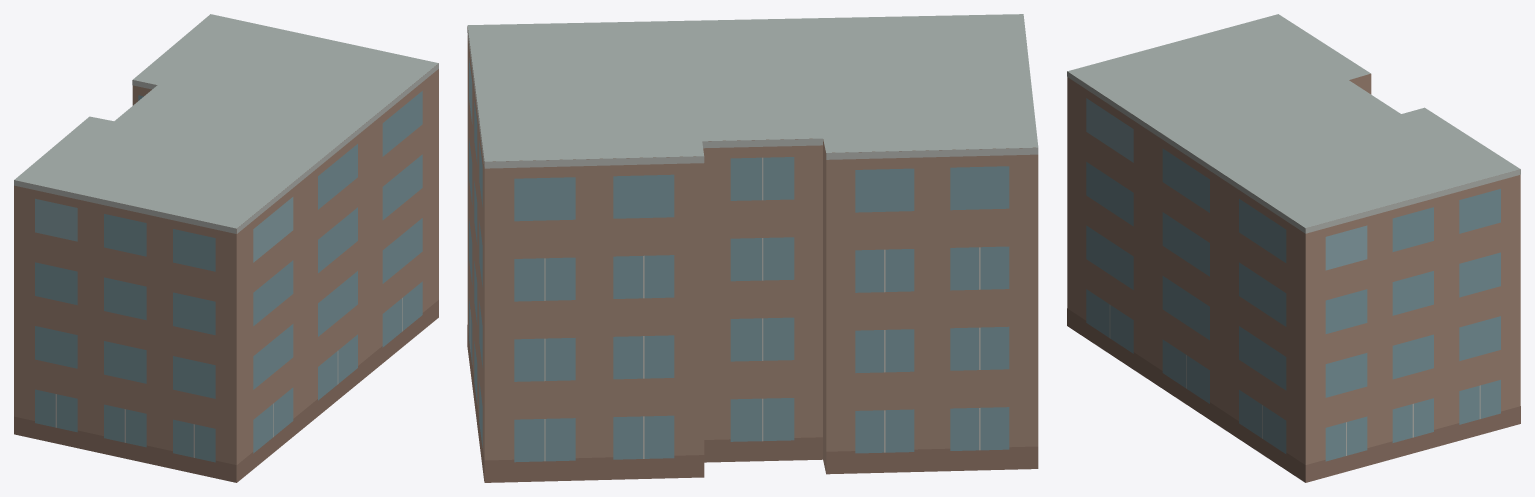
Rendered from survey-upis-32668418.glb.
3 renders of one model, left to right at view 1: azimuth 30°, elevation 25°; view 2: azimuth 150°, elevation 25°; view 3: azimuth 270°, elevation 25°, orthographic. The views are drawn at different scales.
Visible parts, largest first — view 1: survey-upis-32668418.tmp; view 2: survey-upis-32668418.tmp; view 3: survey-upis-32668418.tmp.
Boxes of the visible parts, x1,y1,x2,y2 form: survey-upis-32668418.tmp: [14, 14, 438, 482]; survey-upis-32668418.tmp: [467, 14, 1038, 482]; survey-upis-32668418.tmp: [1067, 14, 1520, 482].
Size of the model in its own units: 20.3 by 11.25 by 18.17.
